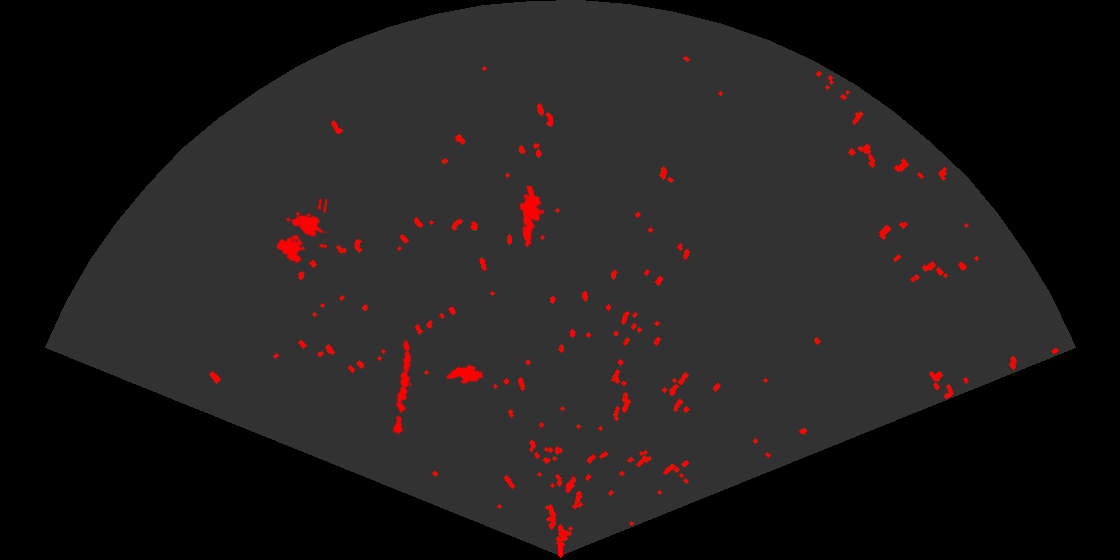AUV: (444, 363, 485, 385)
cage: (275, 199, 327, 265)
chain: (391, 338, 413, 437)
frogman: (518, 186, 546, 248)
